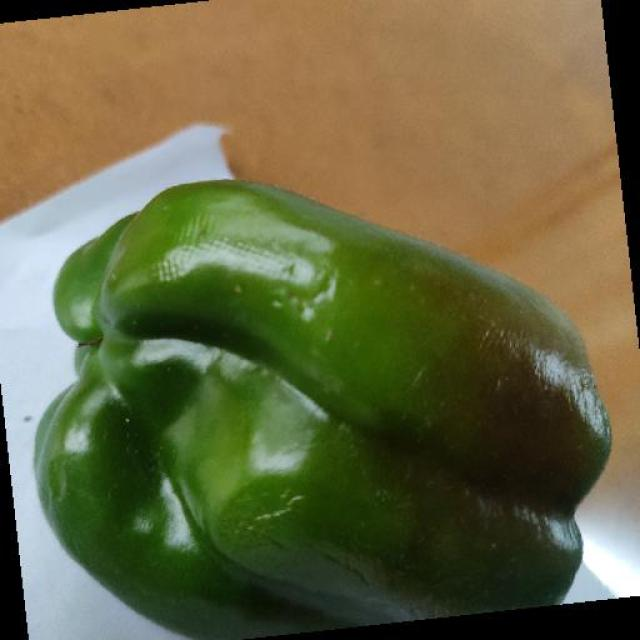Stale_Capsicum: (45, 168, 580, 630)
